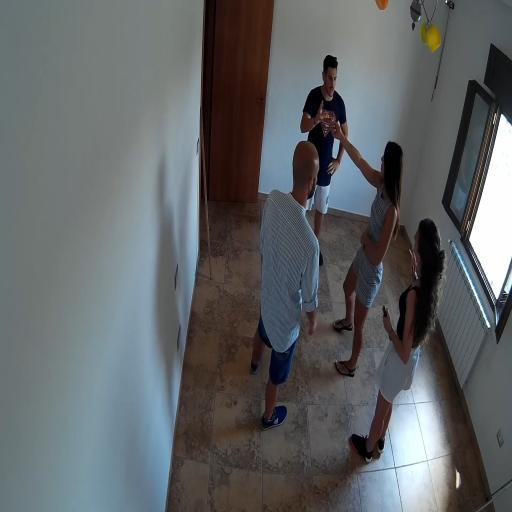nao-violencia: (282, 48, 408, 390)
